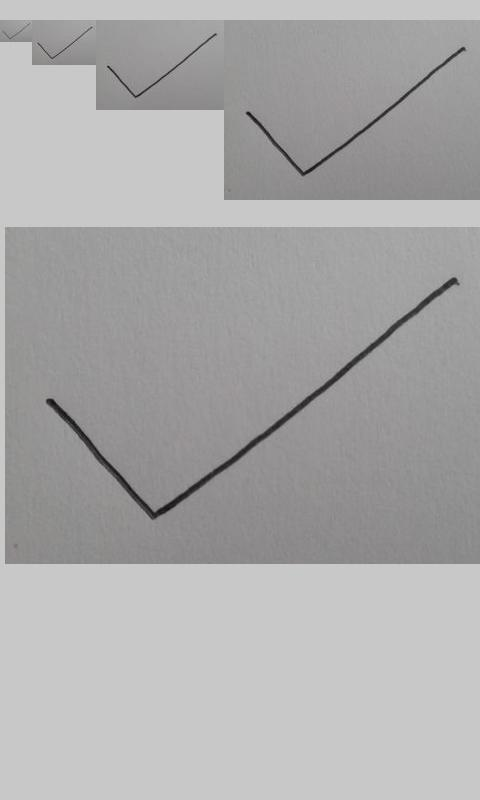check_box: (46, 275, 454, 522), (246, 46, 465, 176), (107, 33, 216, 98), (37, 26, 92, 60), (2, 22, 30, 39)
